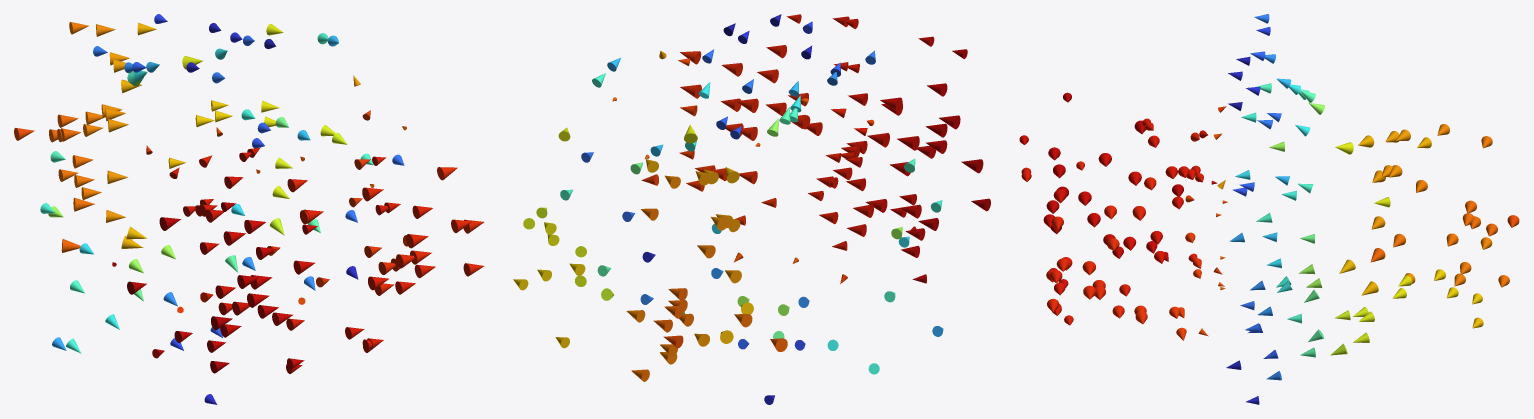
Rendered from LineasCorrienteH2-O2_mh2-6.88_V-0.8.glb.
The picture shows the model from 3 angles, left to right: view 1: azimuth 30°, elevation 25°; view 2: azimuth 150°, elevation 25°; view 3: azimuth 270°, elevation 25°; orthographic projection. The views are drawn at different scales.
Bounding box in the file's own units: 0.000925 × 0.000969 × 0.00123.
2 materials, 2 textured.
